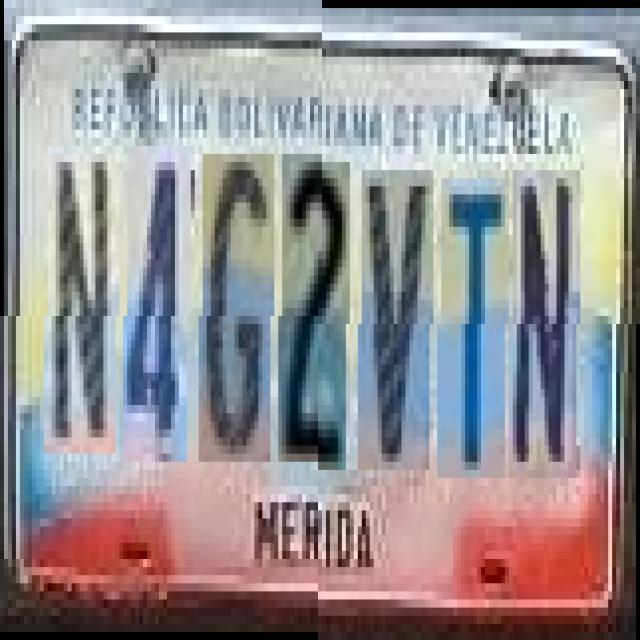2: (282, 162, 350, 470)
4: (128, 154, 190, 470)
G: (203, 162, 274, 470)
N: (48, 154, 120, 462), (512, 170, 580, 478)
T: (441, 178, 509, 478)
V: (362, 170, 434, 470)
